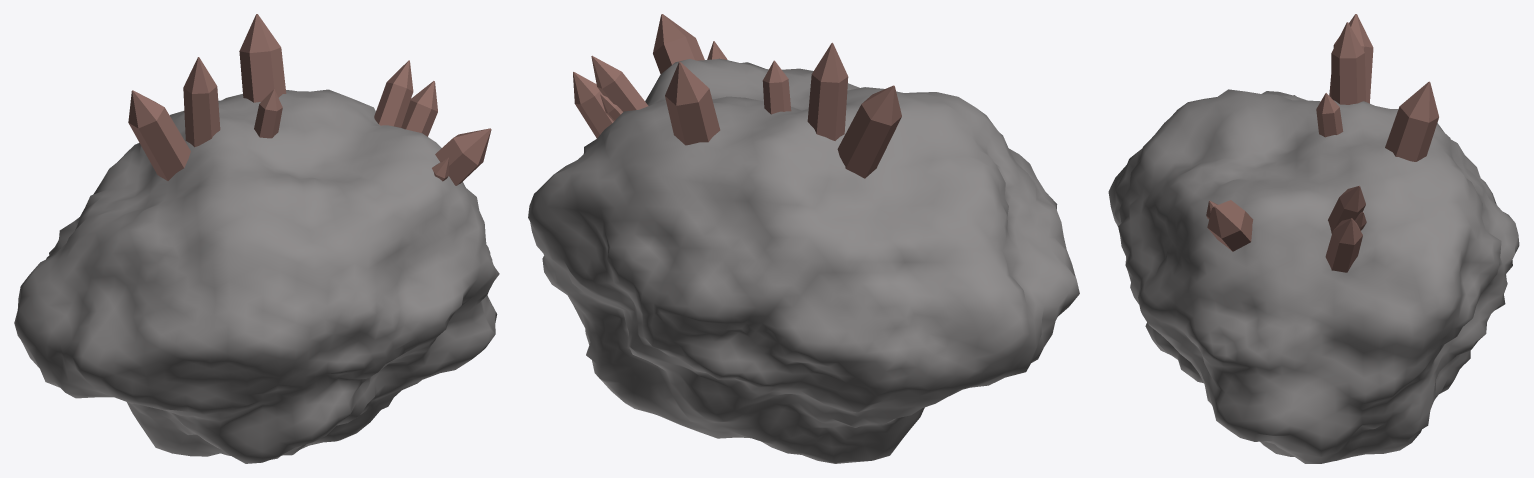
Rendered from tetrahedrite_surface.glb.
3 views of the same model, side by side, from view 1: azimuth 30°, elevation 25°; view 2: azimuth 150°, elevation 25°; view 3: azimuth 270°, elevation 25° (orthographic). The views are drawn at different scales.
Parts seen in each view (by area): view 1: tetrahedrite_surface; view 2: tetrahedrite_surface; view 3: tetrahedrite_surface.
Part boxes in pixels (x1,y1,x2,y2): tetrahedrite_surface: (14,14,499,463); tetrahedrite_surface: (528,14,1079,463); tetrahedrite_surface: (1108,14,1519,463).
Size of the model in its own units: 1.54 by 1.3 by 1.26.
